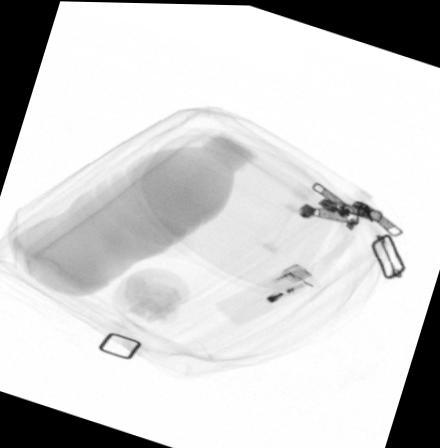Lighter: (214, 261, 319, 326)
